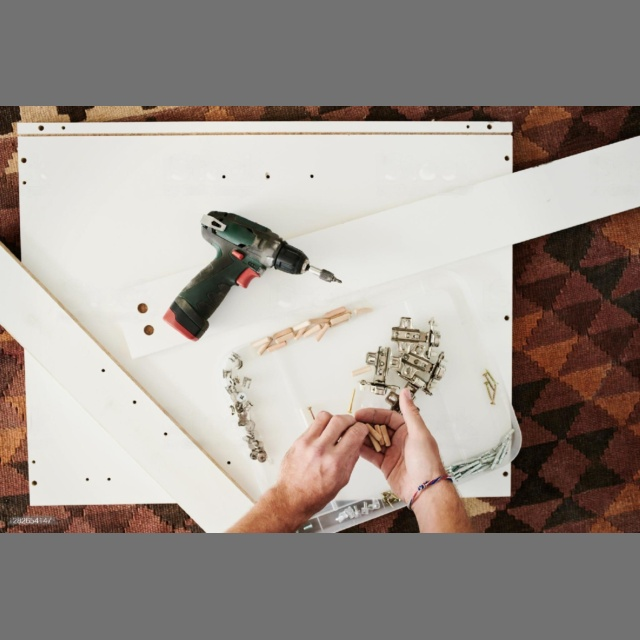drill: (160, 208, 347, 344)
